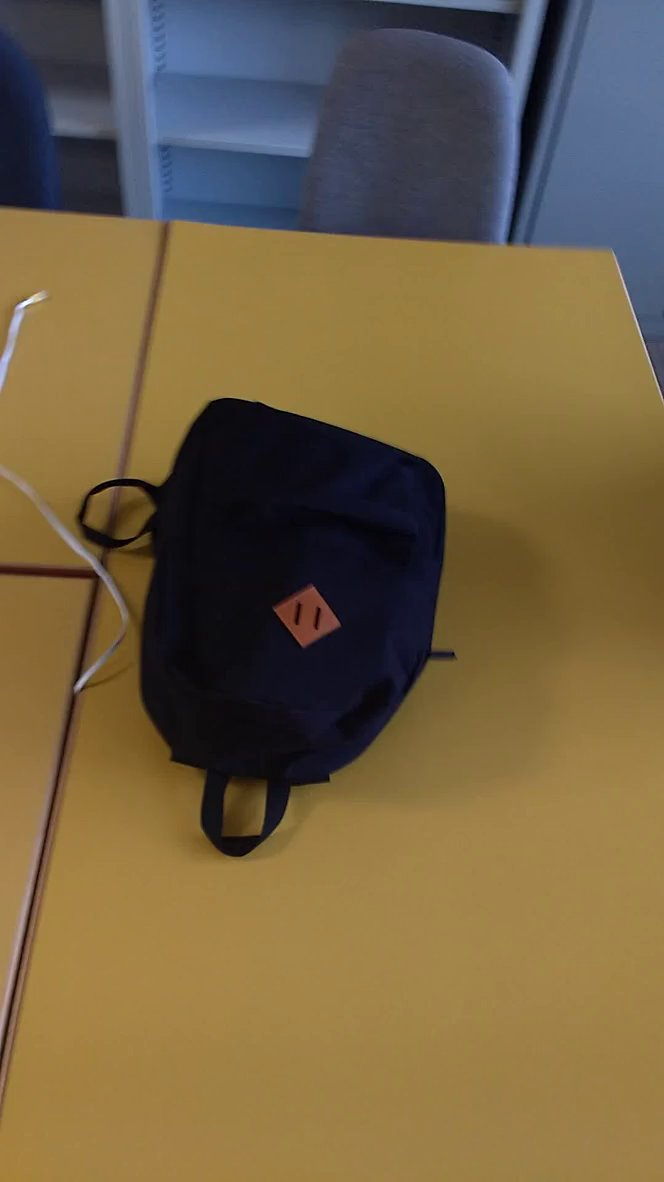bag: (70, 396, 492, 862)
chair: (290, 22, 529, 286)
